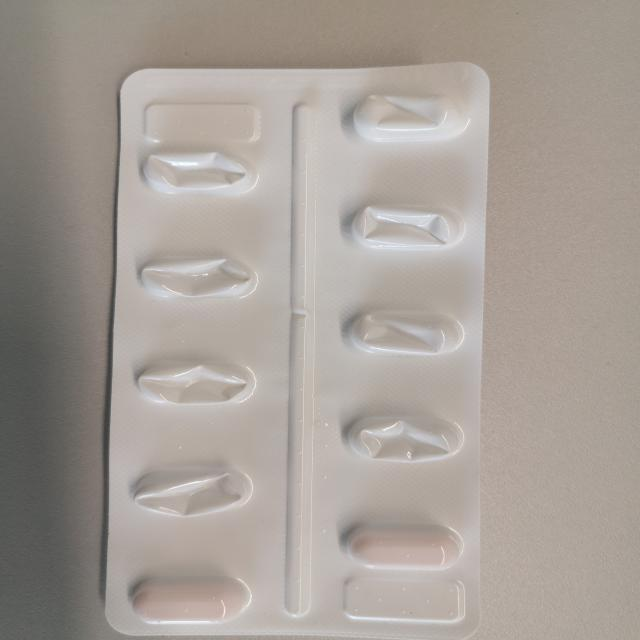Empty: (323, 193, 473, 263), (329, 295, 475, 366), (325, 403, 473, 471), (120, 347, 269, 414), (329, 85, 480, 150), (120, 456, 264, 521), (125, 248, 269, 312), (129, 139, 271, 203)
Pill: (321, 508, 473, 576), (116, 561, 260, 629)
